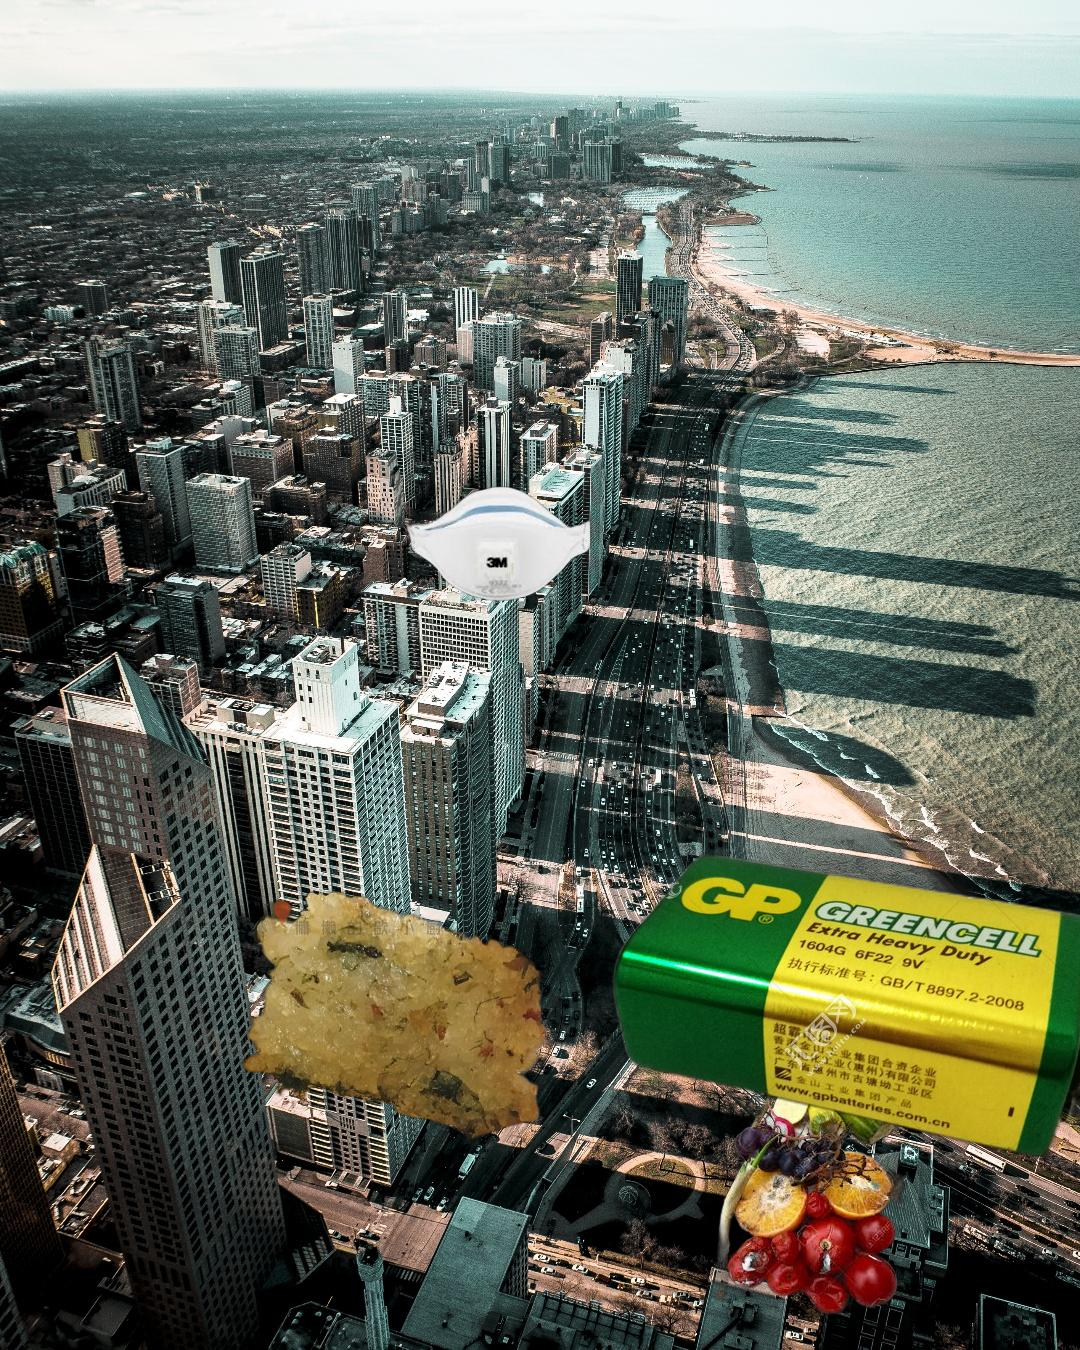battery: (605, 849, 1080, 1162)
biological: (179, 886, 557, 1143), (713, 1068, 907, 1318)
trash: (402, 484, 593, 604)
